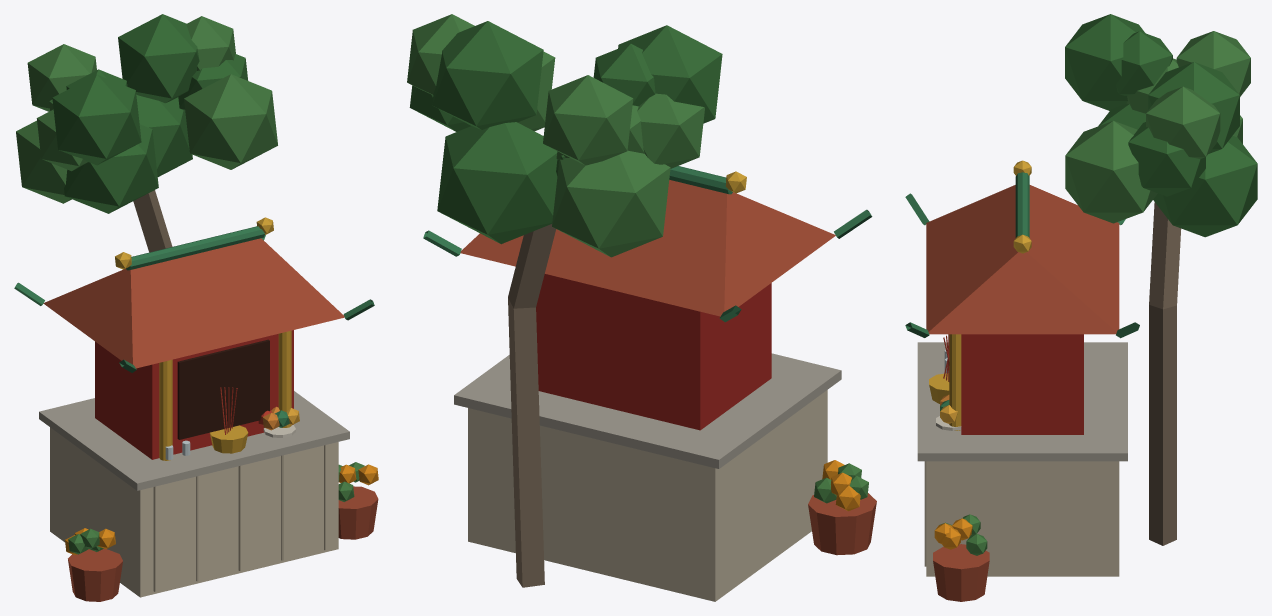
File: mieu.glb
The picture shows the model from 3 angles, left to right: view 1: azimuth 30°, elevation 25°; view 2: azimuth 150°, elevation 25°; view 3: azimuth 270°, elevation 25°; orthographic projection. The views are drawn at different scales.
Parts seen in each view (by area): view 1: mieu; view 2: mieu; view 3: mieu.
Part boxes in pixels (x1,y1,x2,y2): mieu: (14,14,378,601); mieu: (407,14,876,601); mieu: (905,14,1257,601).
Bounding box in the file's own units: 2.14 × 3.08 × 2.01.
